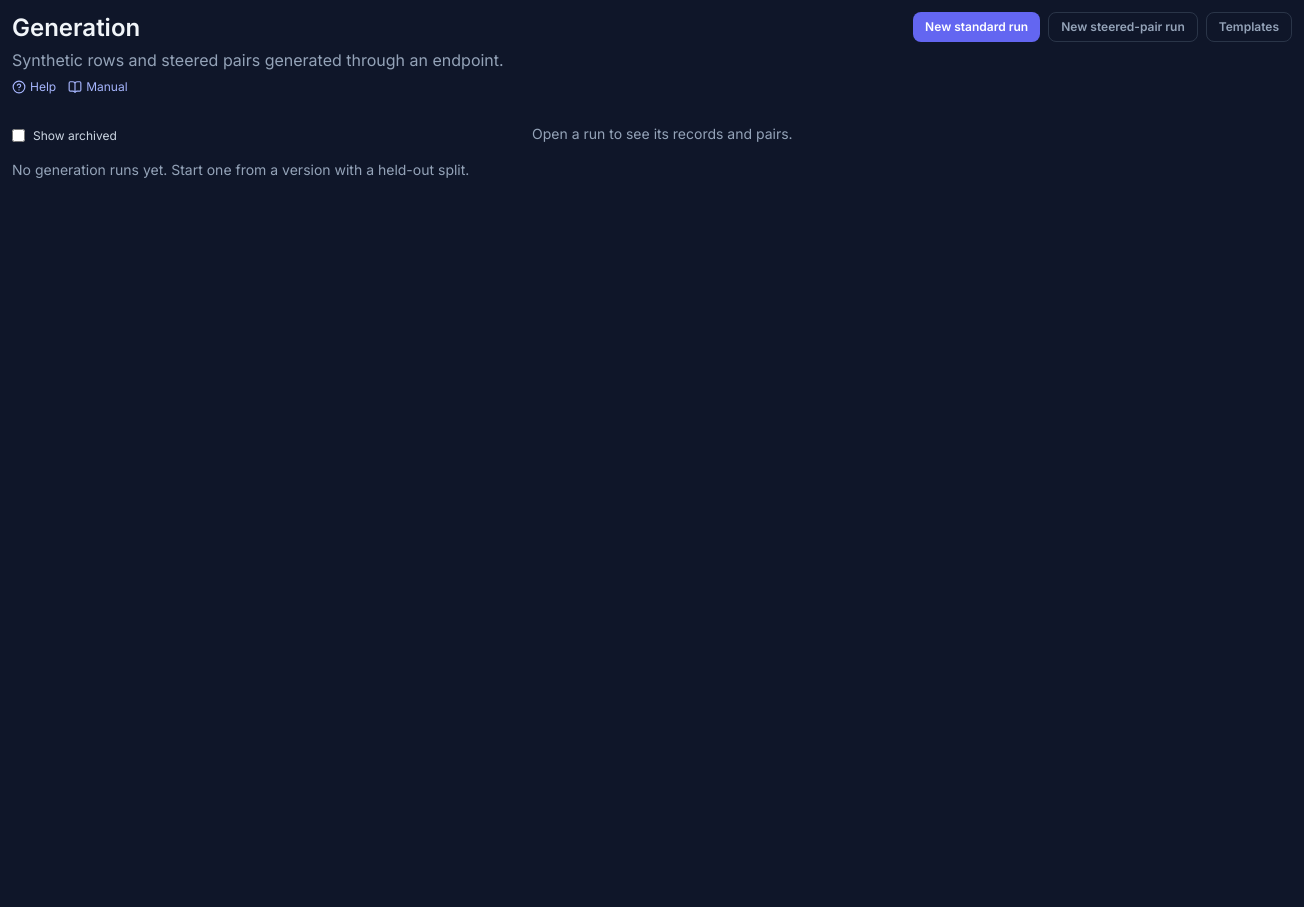
it: New template › says so when the backend found no placeholders
This screenshot has width=1304, height=907.
Click the button "Templates" at x=1249, y=27, box [1206,12,1292,42]
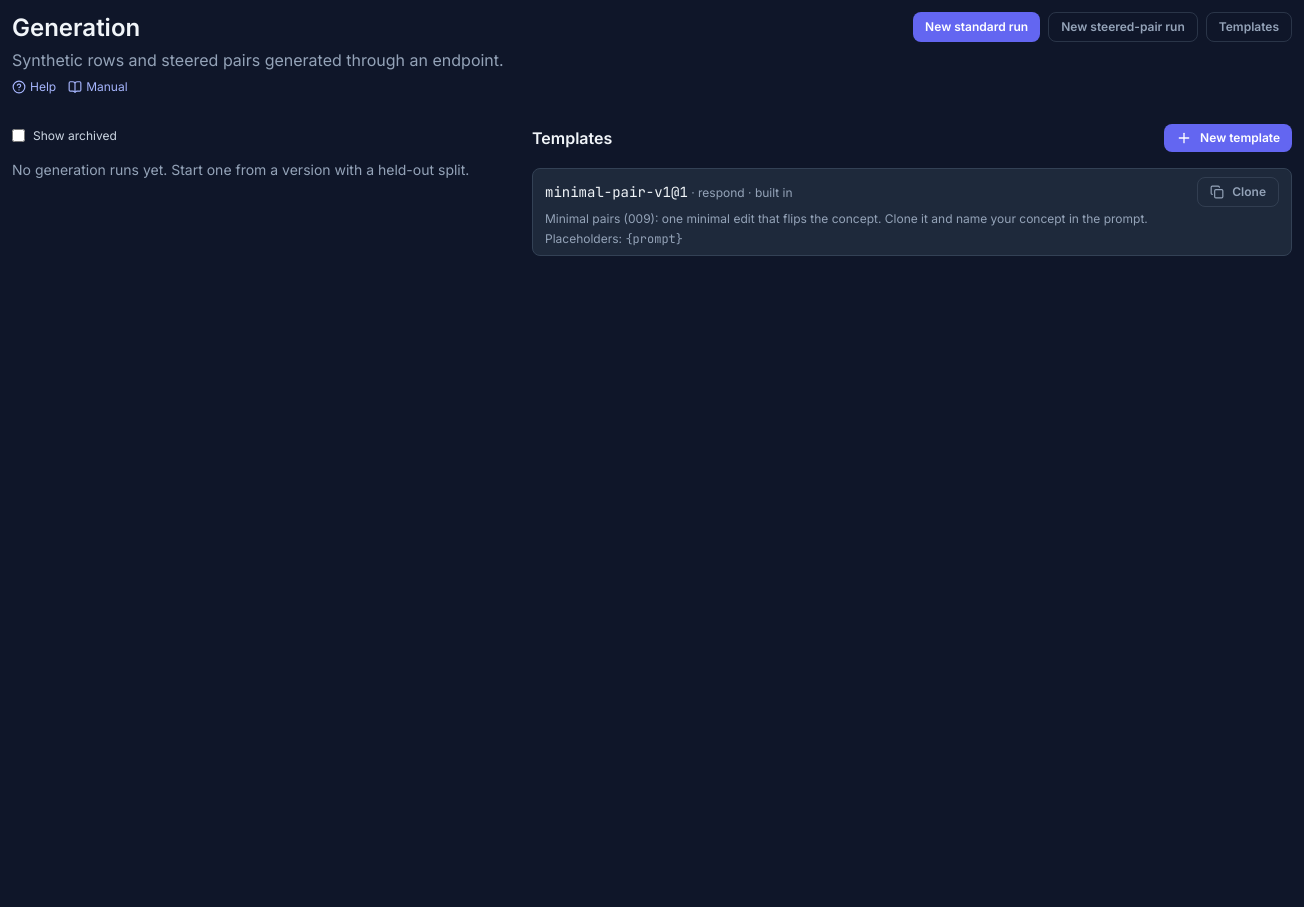
Check: the text "minimal-pair-v1@1" is shown, box [545,183,688,201]
Click the button "New template" at x=1228, y=138, box [1164,124,1292,152]
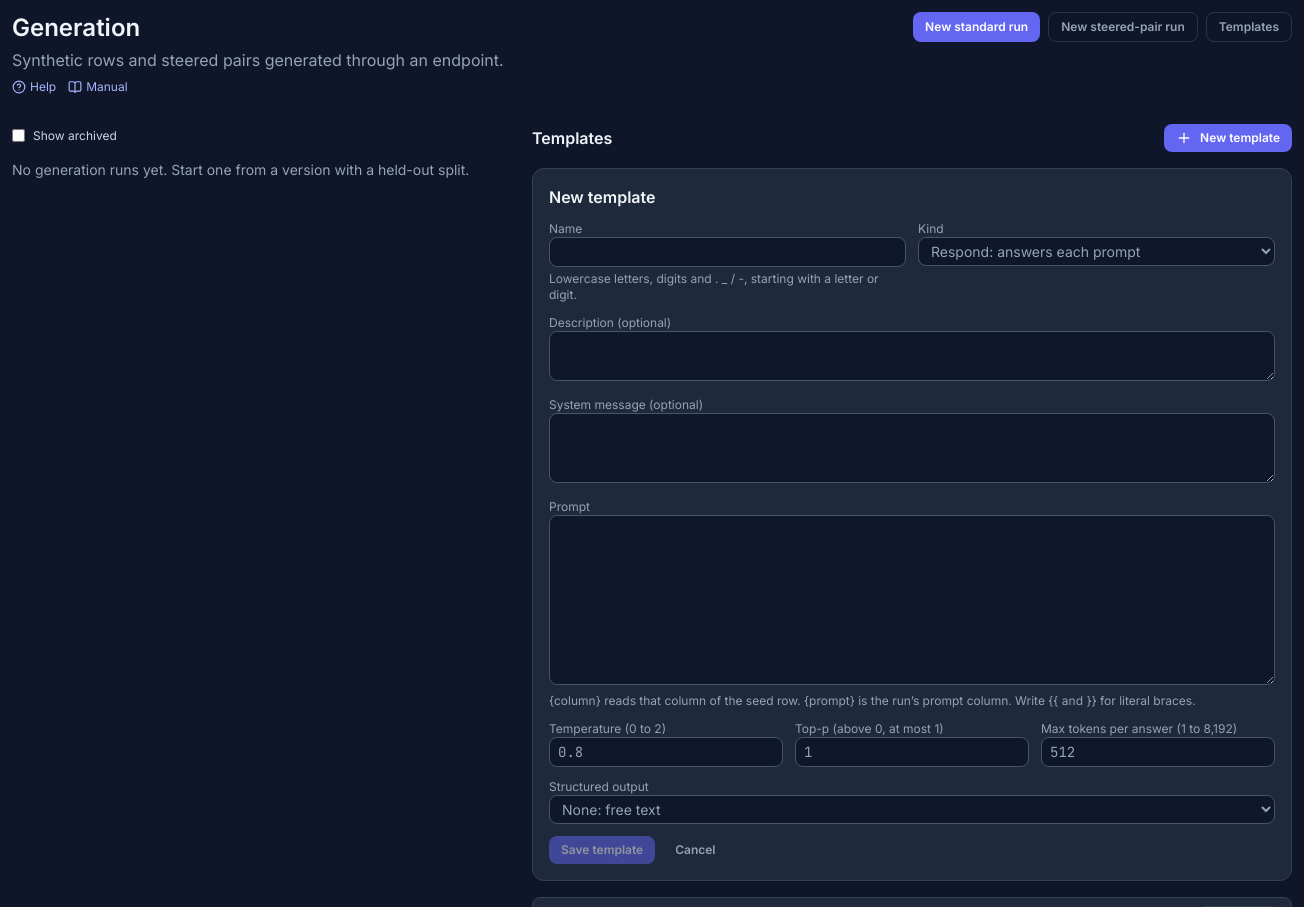
Type "fixed" into the field named "Template name" at x=728, y=252, box [549,237,906,267]
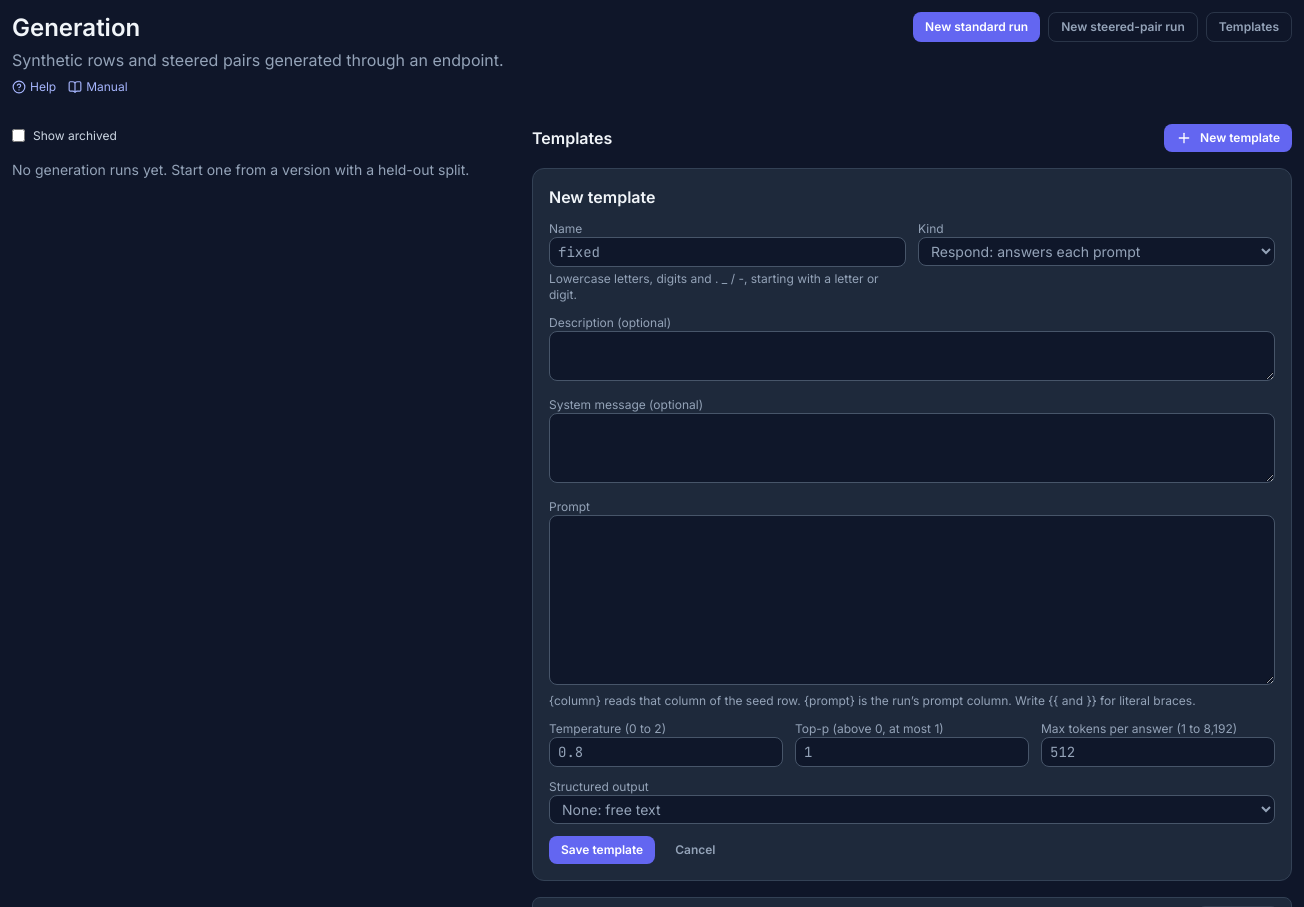
Type "Say hello." into the text box labelled "Prompt" at x=912, y=600, box [549,515,1275,685]
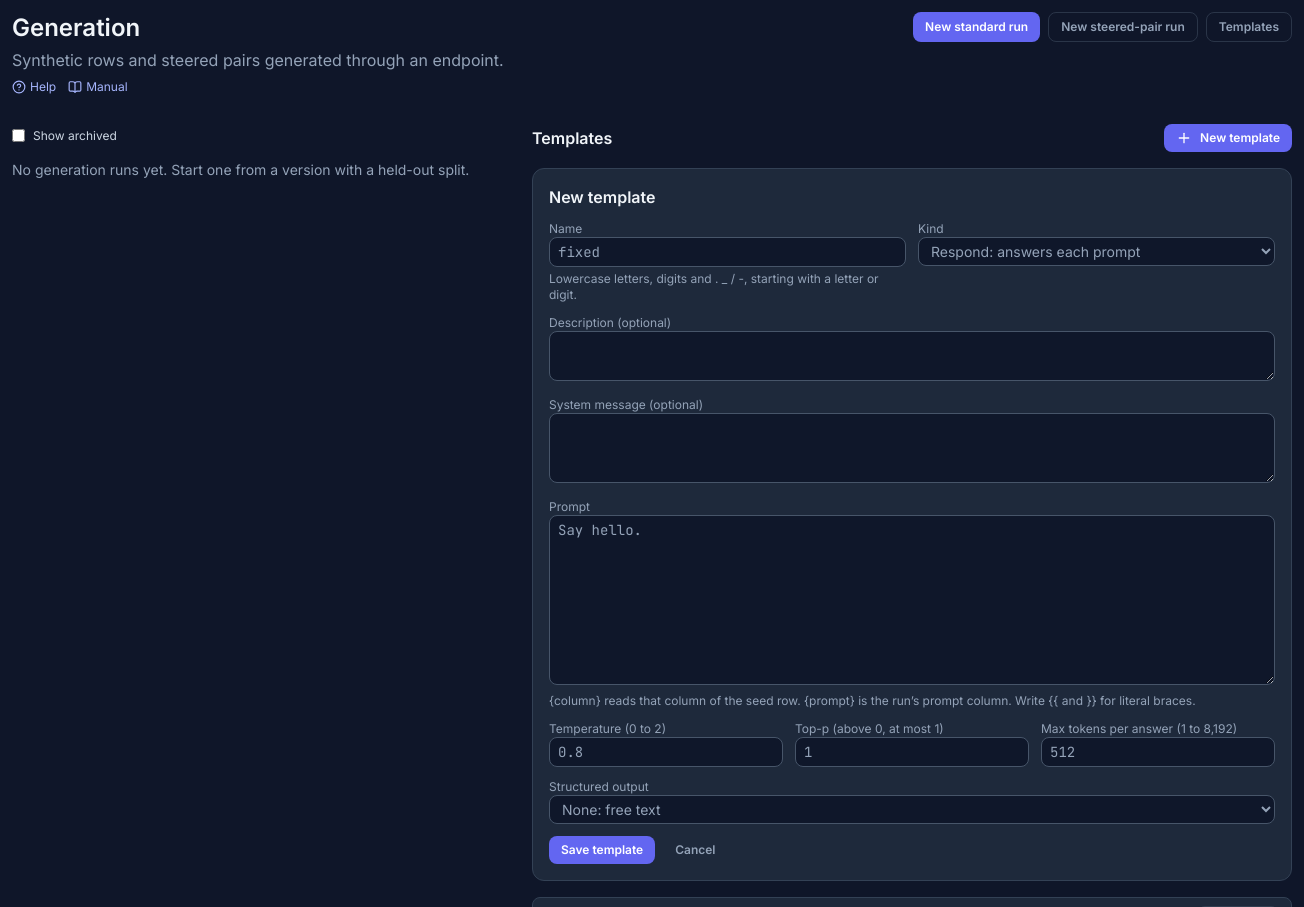
Click the button "Save template" at x=602, y=850, box [549,836,655,864]
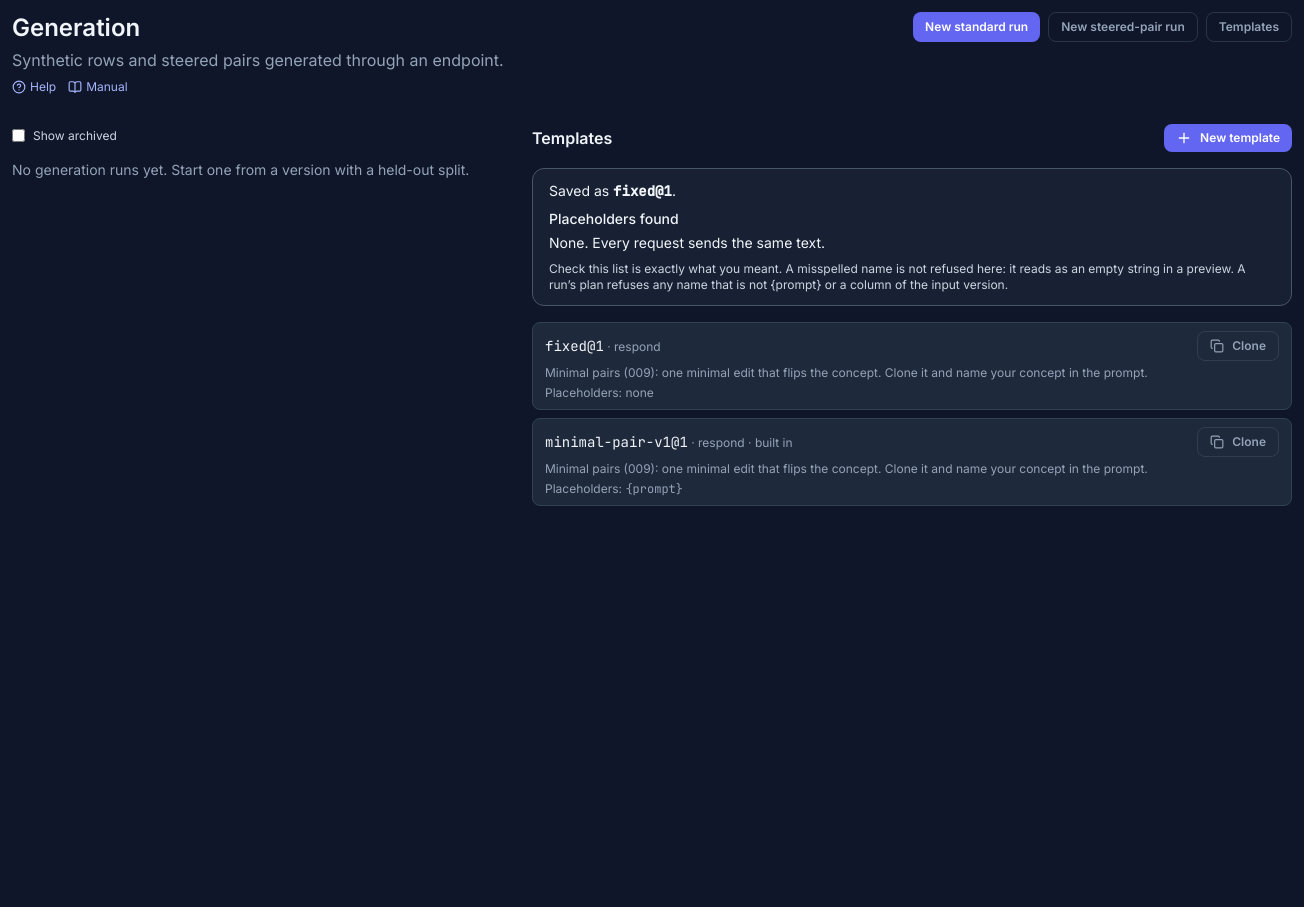
Check: the text with test id "saved-placeholders" reads "None. Every request sends the same text.", box [549,234,825,251]
